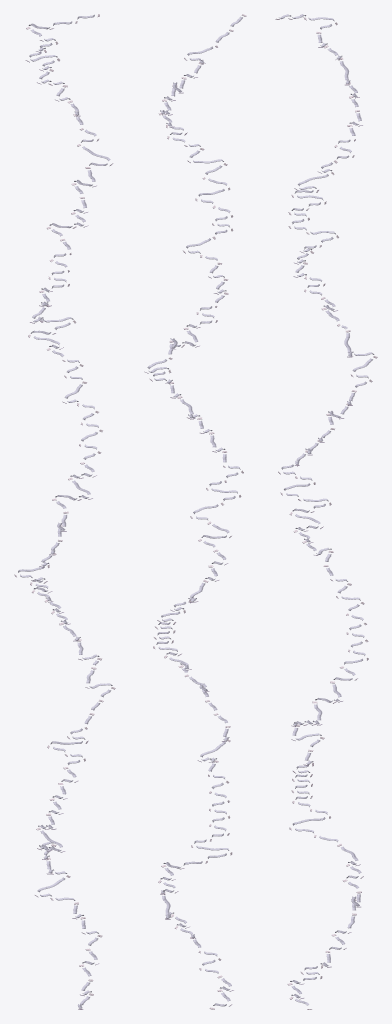
File: C-route-v027-11.glb
3 renders of one model, left to right at view 1: azimuth 90°, elevation 25°; view 2: azimuth 150°, elevation 25°; view 3: azimuth 330°, elevation 25°, orthographic.
Size of the model in its own units: 0.4493 by 5.24 by 0.48.
Materials: 5 (1 with a texture image).
